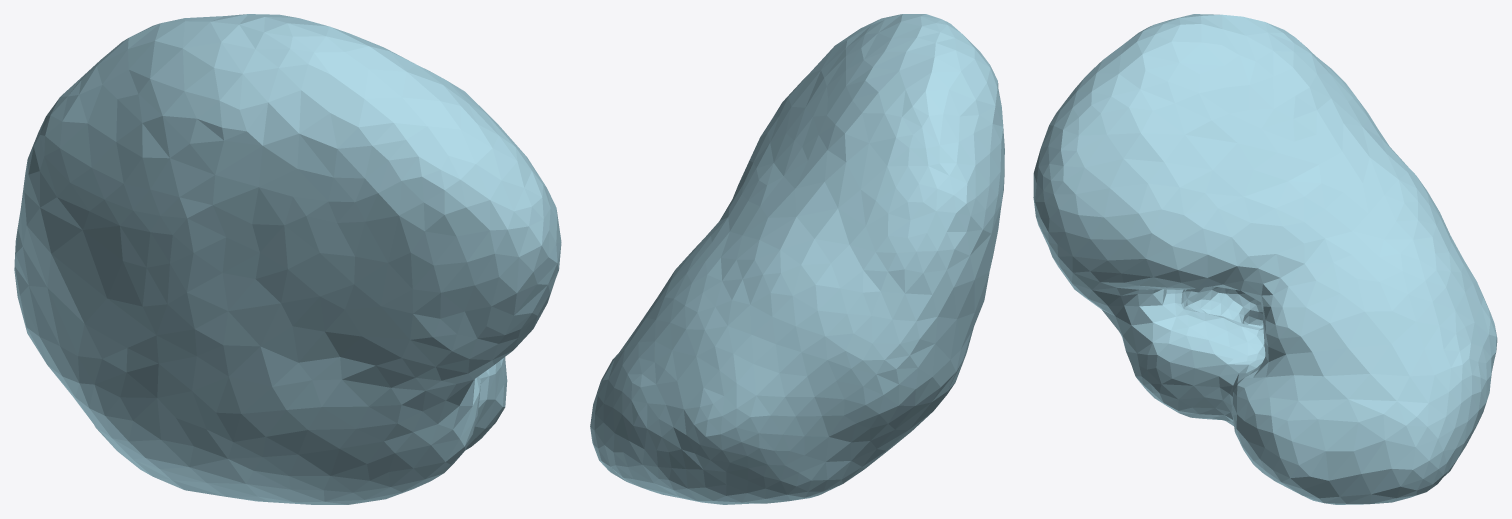
File: rightkidney.obj
The picture shows the model from 3 angles, left to right: view 1: azimuth 30°, elevation 25°; view 2: azimuth 150°, elevation 25°; view 3: azimuth 270°, elevation 25°; orthographic projection. The views are drawn at different scales.
Visible parts, largest first — view 1: grp1; view 2: grp1; view 3: grp1.
Part boxes in pixels (x1=…): grp1: x1=14, y1=14, x2=561, y2=504; grp1: x1=590, y1=14, x2=1004, y2=504; grp1: x1=1033, y1=14, x2=1497, y2=504.
Size of the model in its own units: 59.09 by 70.74 by 74.4.
